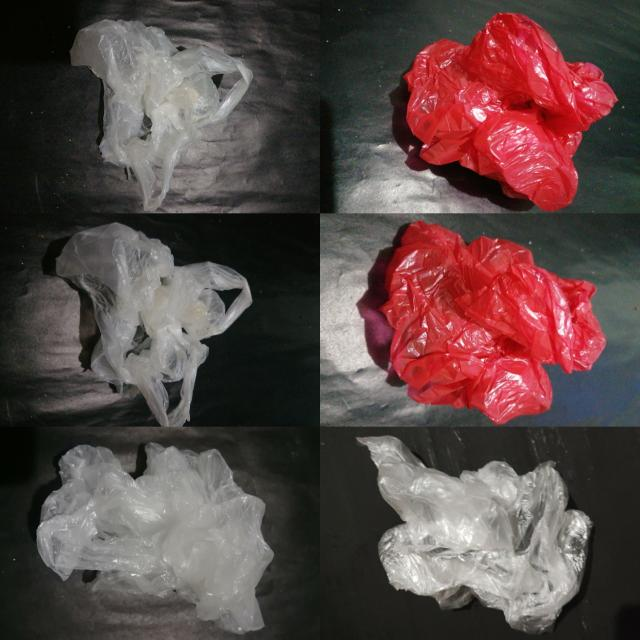Single-layer Plastic: (358, 436, 592, 634), (380, 221, 605, 424), (36, 442, 273, 633), (405, 12, 617, 211), (56, 222, 251, 426), (70, 20, 253, 211)
